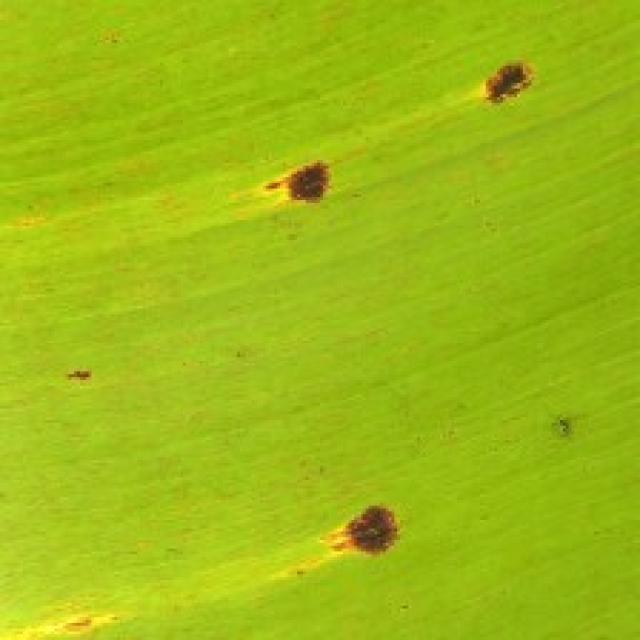Bacterial_spot: (314, 496, 414, 580), (245, 151, 343, 224), (466, 50, 550, 130), (58, 340, 111, 394)
